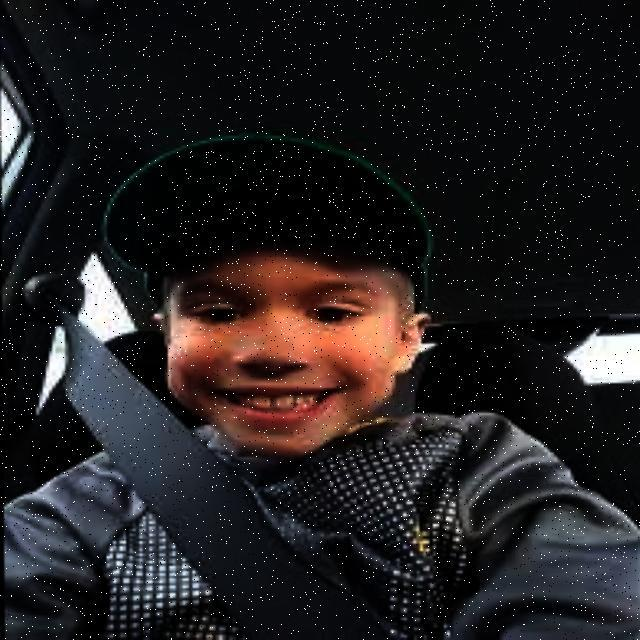seatbelt: (2, 365, 566, 640)
